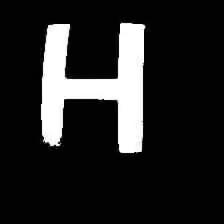LTR_H: (35, 9, 150, 155)
